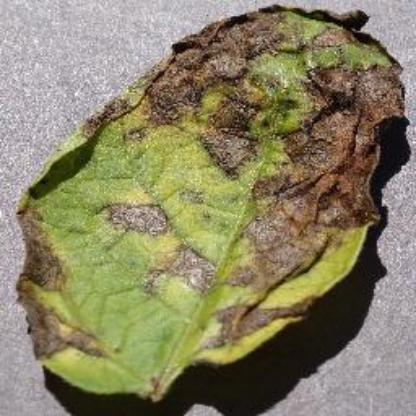Early-Blight: (14, 2, 406, 404)
